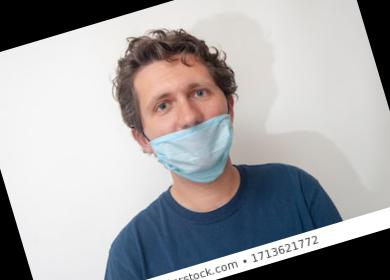mask_weared_incorrect: (133, 60, 246, 188)
